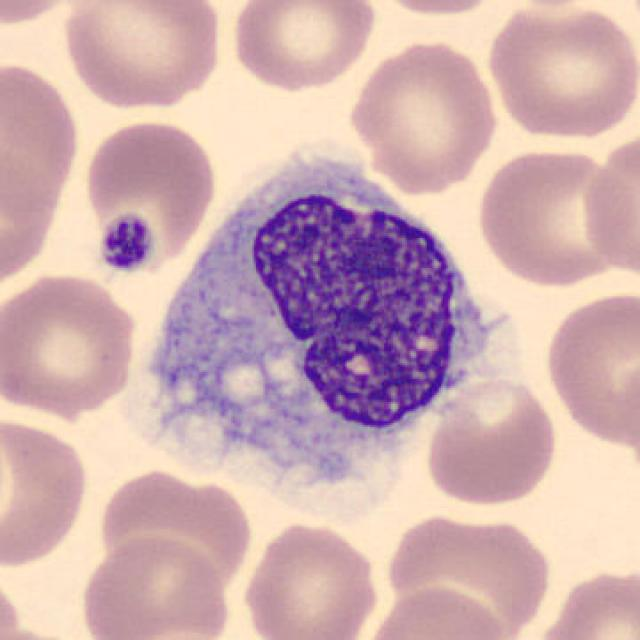Monocyte: (130, 140, 521, 488)
Platelets: (92, 210, 160, 277)
RBC: (345, 35, 501, 194), (377, 506, 558, 638), (473, 143, 629, 291), (80, 114, 220, 278), (91, 465, 256, 603), (480, 0, 638, 143), (0, 268, 142, 421), (0, 53, 85, 291), (421, 372, 562, 510), (57, 0, 227, 113), (74, 530, 234, 640), (238, 518, 382, 640), (540, 288, 638, 452), (0, 410, 92, 571), (225, 0, 380, 93), (578, 124, 640, 286), (359, 582, 510, 640), (530, 562, 640, 640), (0, 0, 100, 30), (359, 0, 514, 18), (0, 567, 25, 640), (0, 624, 101, 640)
